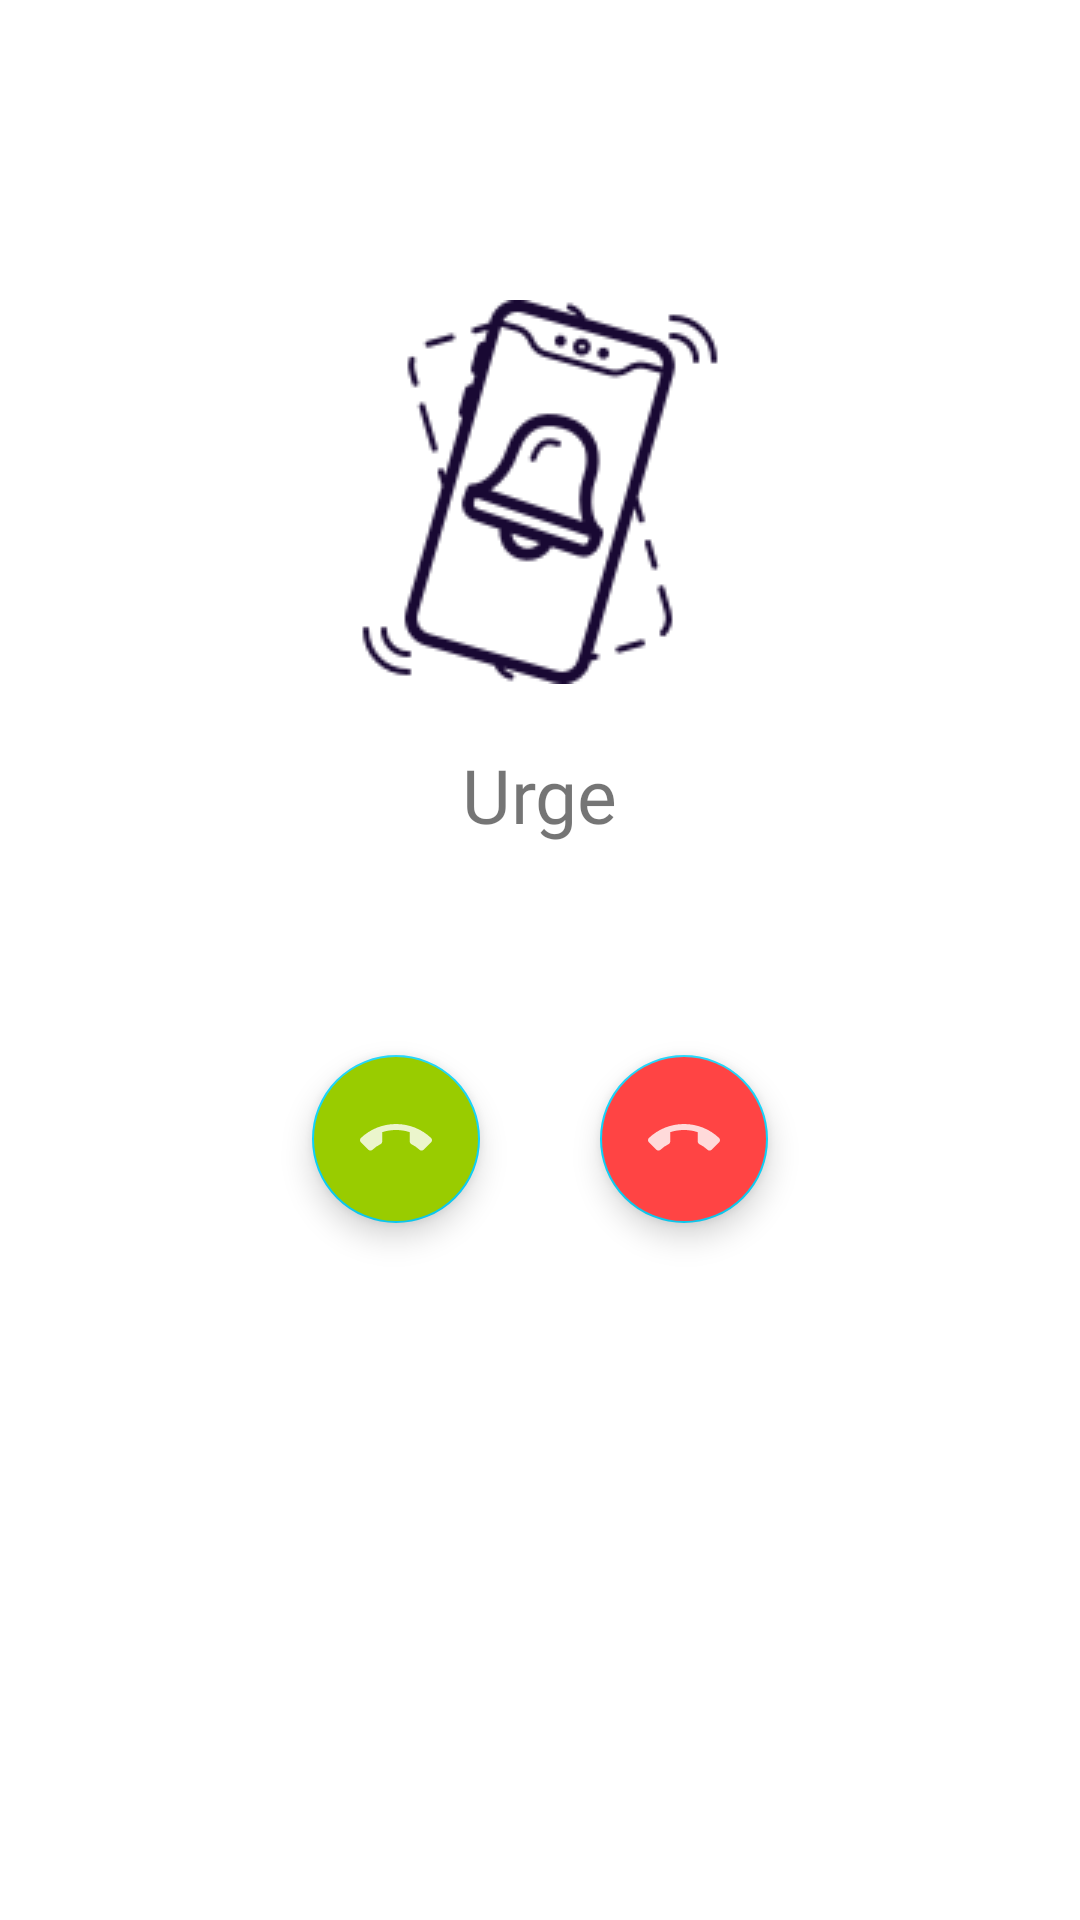

Icon click points for this 1080px x 1920px phone screenshot, format (x,y):
call end: (396,1139), (684,1139)
